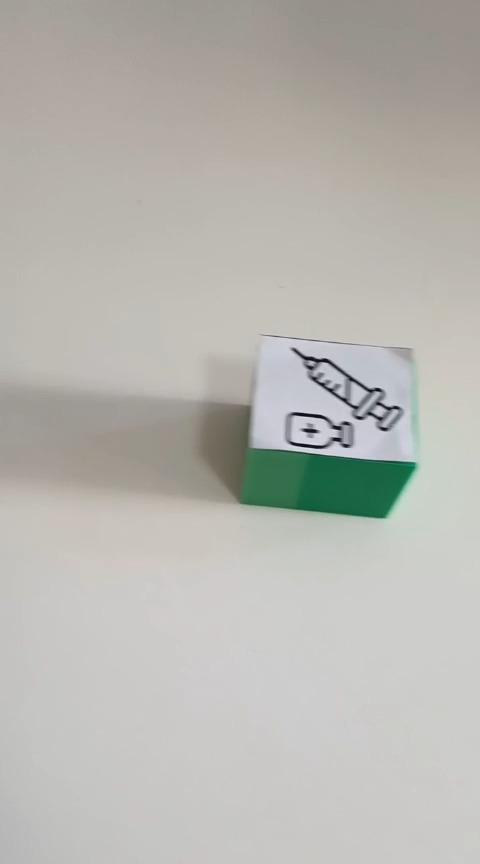antiseptic cream: (237, 332, 419, 519)
